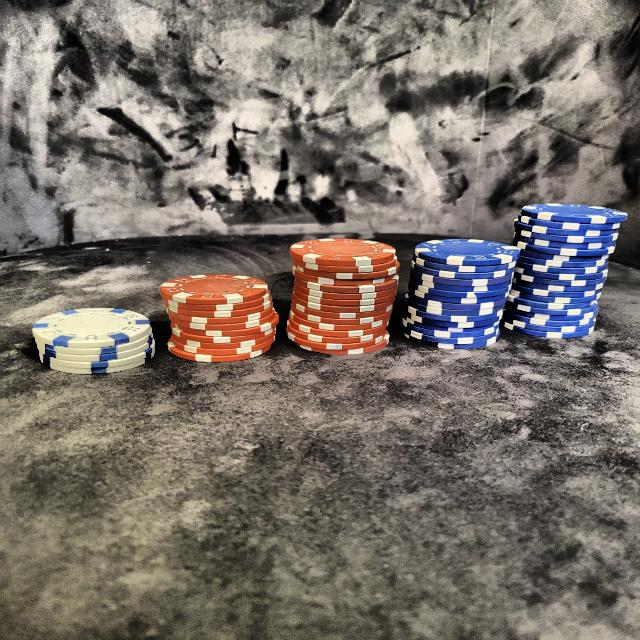Chip: (506, 192, 622, 350), (282, 219, 402, 369), (150, 256, 289, 370), (404, 229, 520, 359), (31, 289, 166, 384)
